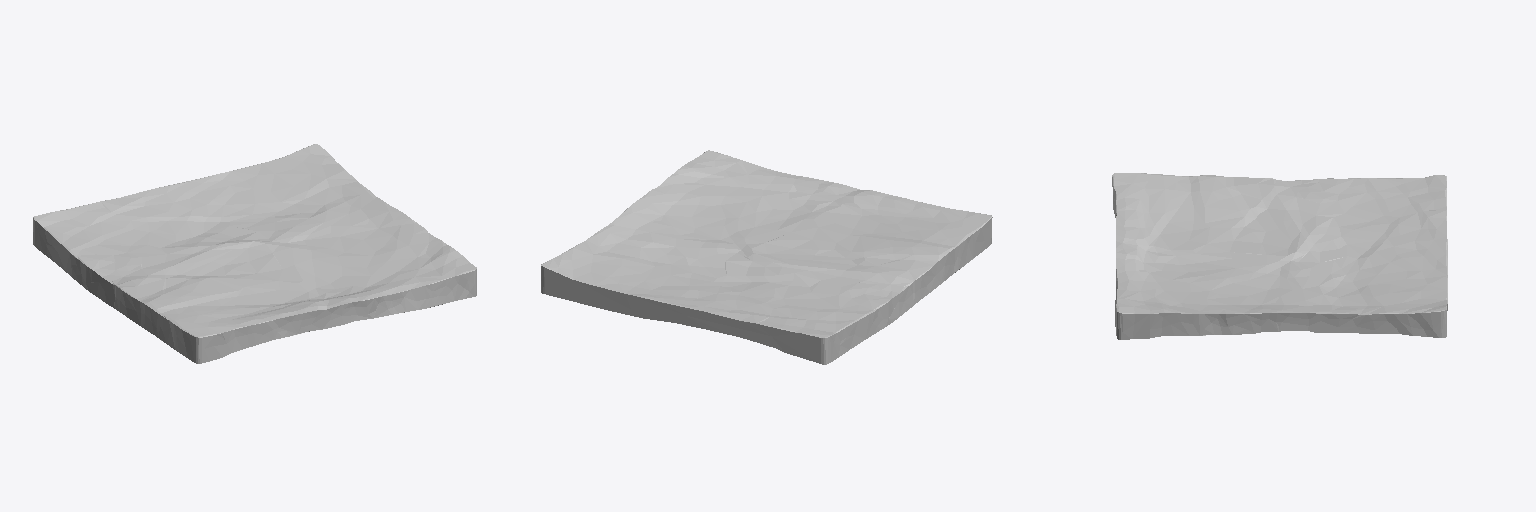
Rendered from busstop_ground.obj.
3 renders of one model, left to right at view 1: azimuth 30°, elevation 25°; view 2: azimuth 150°, elevation 25°; view 3: azimuth 270°, elevation 25°, orthographic.
Parts seen in each view (by area): view 1: Cube.004; view 2: Cube.004; view 3: Cube.004.
Boxes of the visible parts, x1,y1,x2,y2 form: Cube.004: [33, 144, 476, 363]; Cube.004: [541, 150, 992, 364]; Cube.004: [1112, 173, 1447, 339].
Bounding box in the file's own units: 2.01 × 0.2137 × 2.